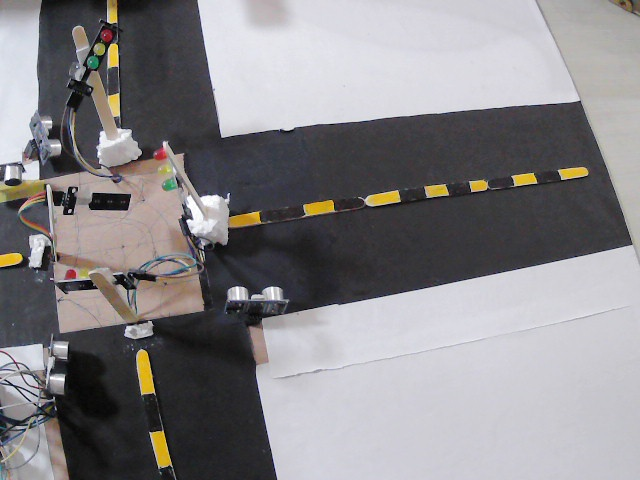black_strip: (142, 389, 164, 429), (532, 164, 564, 183), (397, 182, 428, 201), (488, 168, 517, 188), (446, 173, 472, 194), (260, 206, 304, 218), (332, 194, 364, 210), (106, 62, 120, 89), (591, 161, 615, 174), (156, 462, 174, 479), (103, 20, 119, 39)
mixed_lane: (230, 155, 617, 228), (131, 343, 176, 477), (104, 0, 123, 126), (0, 247, 24, 267)
traffic_light: (64, 18, 112, 93), (144, 135, 186, 204), (50, 266, 135, 294), (60, 189, 135, 213)
uno_breadboard: (40, 332, 72, 396), (224, 288, 289, 317), (27, 115, 56, 168), (0, 160, 23, 187)
yellow_strip: (149, 431, 173, 467), (136, 347, 154, 392), (367, 188, 400, 204), (303, 197, 330, 216), (227, 208, 259, 222), (566, 161, 592, 174), (424, 180, 446, 195), (0, 249, 22, 264), (516, 171, 536, 186), (108, 90, 120, 114), (106, 45, 116, 66), (472, 177, 488, 189), (108, 0, 116, 24)
